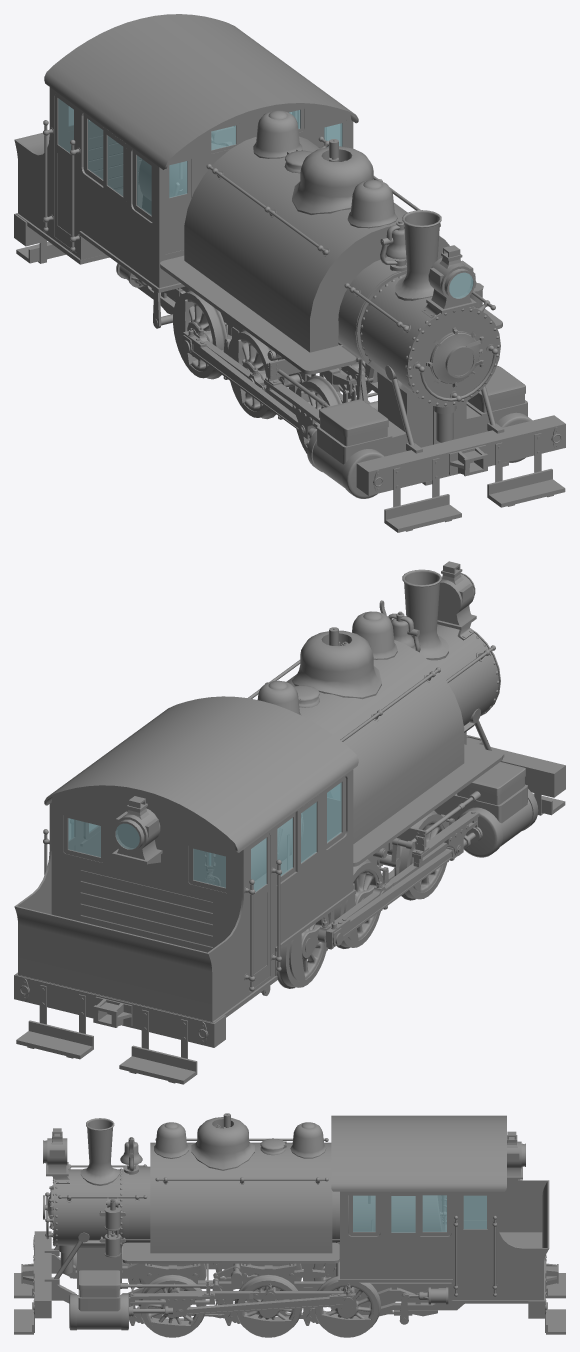
File: Leetonia Preview FBX.fbx
3 renders of one model, top to bottom at view 1: azimuth 30°, elevation 25°; view 2: azimuth 150°, elevation 25°; view 3: azimuth 270°, elevation 25°, orthographic. The views are drawn at different scales.
Parts seen in each view (by area): view 1: Locomotive; view 2: Locomotive; view 3: Locomotive.
Boxes of the visible parts, x1,y1,x2,y2 form: Locomotive: (14, 14, 565, 532); Locomotive: (14, 561, 565, 1084); Locomotive: (14, 1113, 565, 1337).
Bounding box in the file's own units: 6.09 × 7.84 × 19.04.
